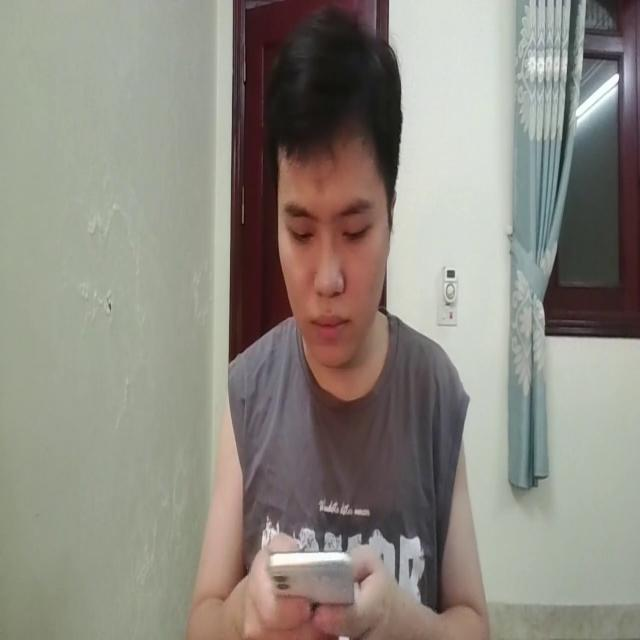phone: (264, 538, 360, 604)
student: (189, 0, 487, 640)
